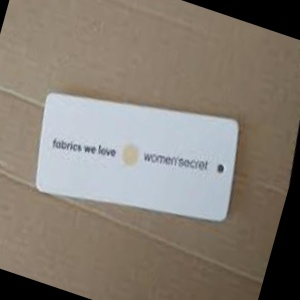women_secret: (113, 65, 300, 256)
